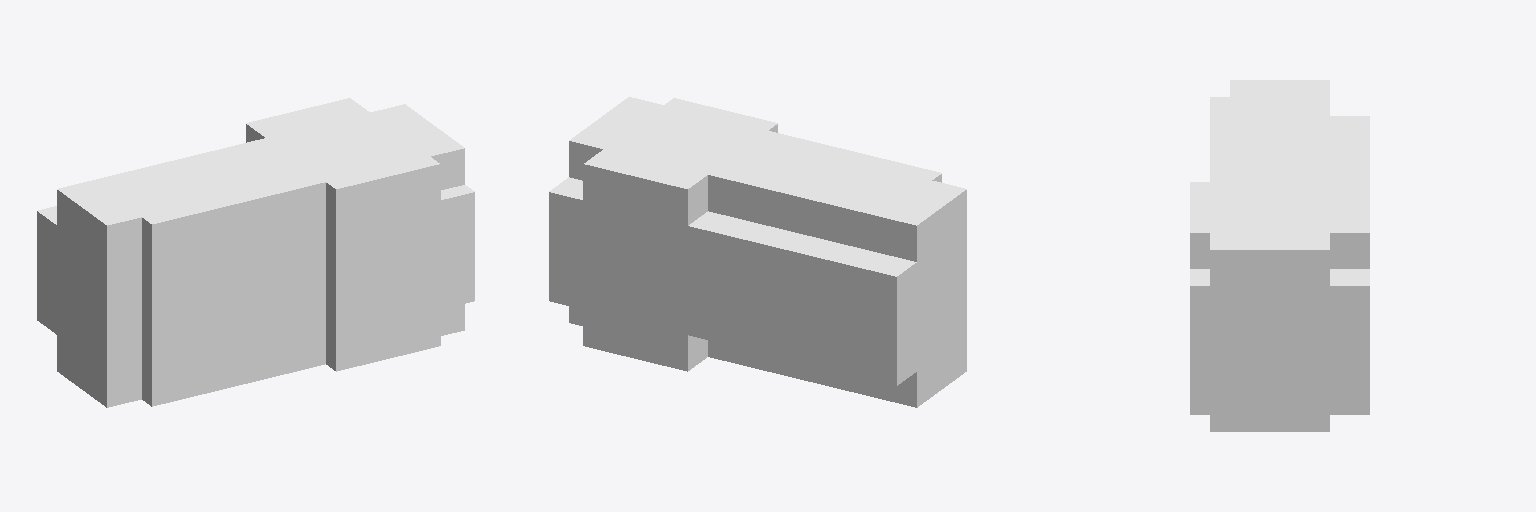
The model's file is enemy-6.obj.
3 renders of one model, left to right at view 1: azimuth 30°, elevation 25°; view 2: azimuth 150°, elevation 25°; view 3: azimuth 270°, elevation 25°, orthographic.
Visible parts, largest first — view 1: object 1; view 2: object 1; view 3: object 1.
Boxes of the visible parts, x1,y1,x2,y2 form: object 1: [37, 98, 474, 407]; object 1: [549, 97, 966, 407]; object 1: [1190, 80, 1369, 431].
Size of the model in its own units: 2 by 1 by 0.9.